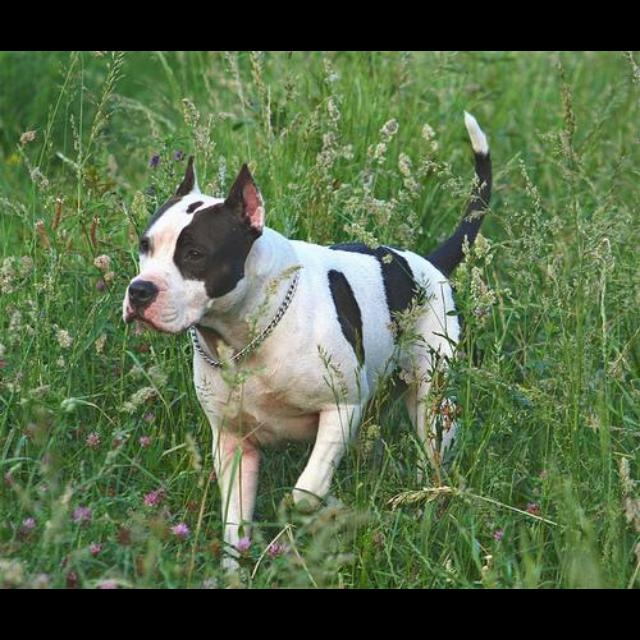amstaff: (122, 111, 494, 578)
